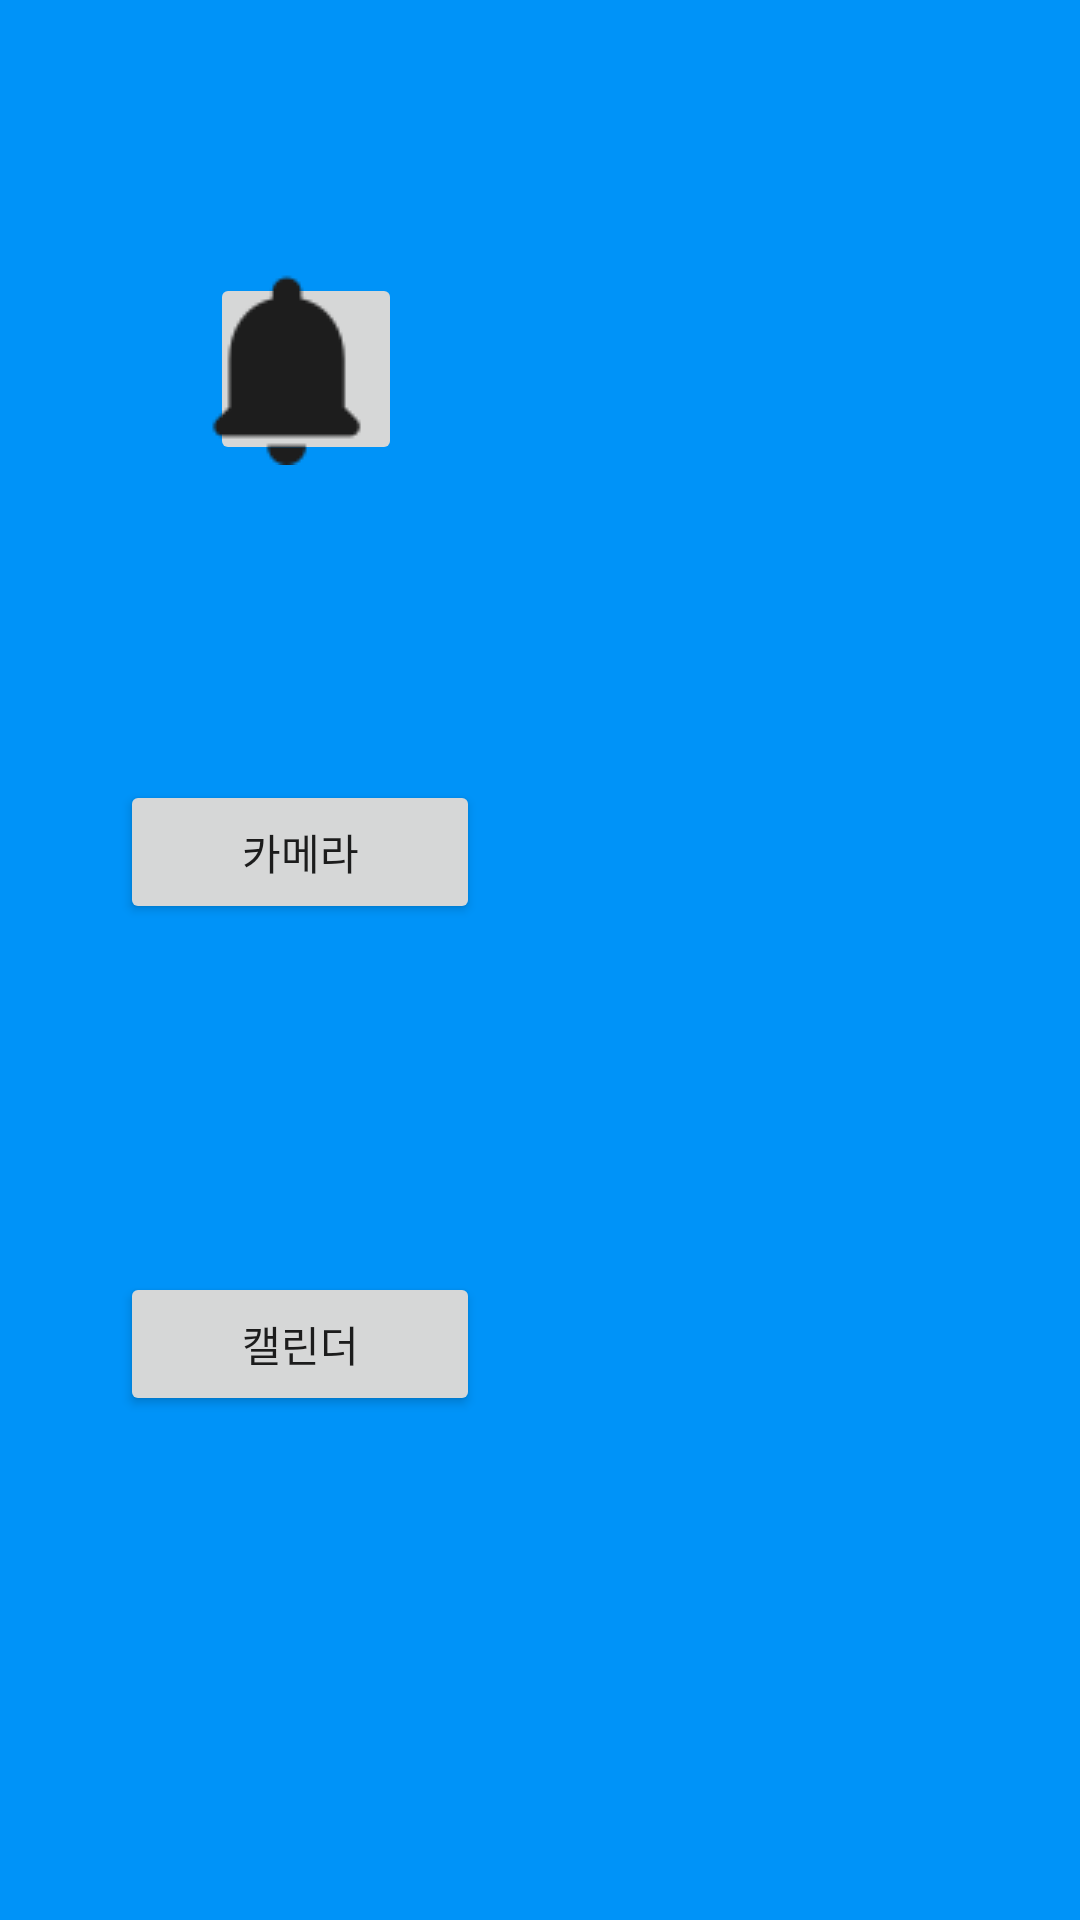

Icons on this 1080px×1920px Android screen, each with the point to tap as point (x, y):
push: point (301, 370)
